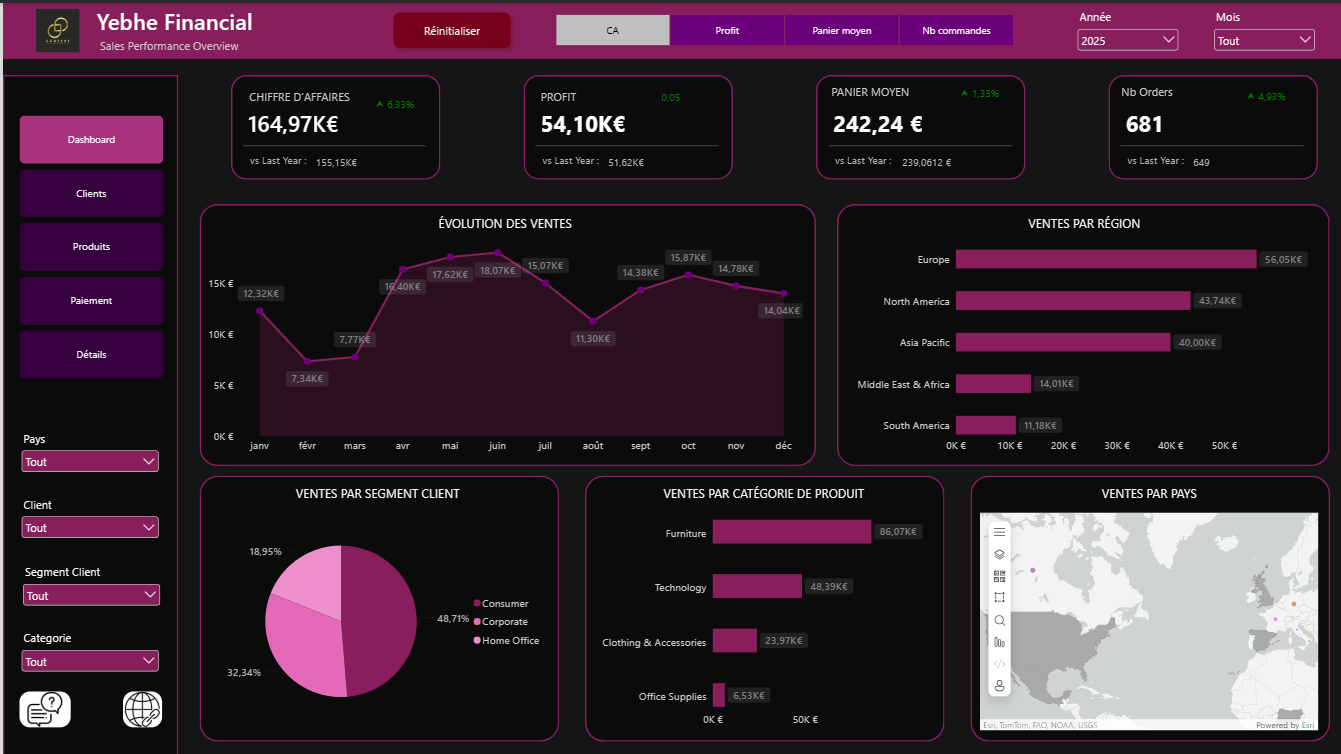

Layout of this report page (visuals, bound fields, positions):
{"tool":"powerbi","page":{"name":"Dashboard","canvas":[1920,1080],"ordinal":0},"visuals":[{"type":"shape","box":[281.1,288.7,883,375.5],"z":0},{"type":"shape","title":"top bar","box":[0,0,1919.7,80],"z":1000},{"type":"shape","box":[327.3,103,300,150],"z":2000,"group":"g1"},{"type":"shape","box":[746,103,300,150],"z":2000,"group":"g2"},{"type":"shape","box":[1583.3,103,300,150],"z":2000,"group":"g4"},{"type":"shape","box":[1164.7,103.1,300,150],"z":2000,"group":"g3"},{"type":"shape","title":"sidebar","box":[0,103.8,250.9,975.5],"z":2000},{"type":"slicer","title":"slicer month_name","fields":{"Values":["dim_date.Month_name"]},"box":[1728.8,7.6,154.5,62.1],"z":3000},{"type":"textbox","title":"title dash","box":[124,4,251.5,47],"z":4000},{"type":"image","title":"logo","box":[40.9,7.6,75.8,62.1],"z":5000},{"type":"slicer","title":"year Slicer","fields":{"Values":["dim_date.Year"]},"box":[1533.3,7.6,154.5,62.1],"z":6000},{"type":"actionButton","box":[550.9,3.8,186.4,69.7],"z":7000},{"type":"group","id":"g1","title":"Group 1","box":[327.3,103,300,150],"z":8000},{"type":"slicer","title":"year Slicer","fields":{"Values":["dim_segment.Customer_Segment"]},"box":[22.7,802.7,206.1,62.1],"z":9000},{"type":"group","id":"g2","title":"Group 1","box":[737.4,103,308.6,150],"z":10000},{"type":"cardVisual","fields":{"Data":["_Mesures.Ca Last Year"]},"box":[433,208.2,131.8,37.9],"z":10000,"group":"g1"},{"type":"cardVisual","fields":{"Data":["_Mesures.Profit LY"]},"box":[851.7,208.2,131.8,37.9],"z":10000,"group":"g2"},{"type":"cardVisual","fields":{"Data":["_Mesures.Nb Orders LY"]},"box":[1689,208.2,131.8,37.9],"z":10000,"group":"g4"},{"type":"cardVisual","fields":{"Data":["_Mesures.AOV LY"]},"box":[1270.3,208.3,131.8,37.9],"z":10000,"group":"g3"},{"type":"group","id":"g3","title":"Group 1","box":[1163.7,103,301,150.1],"z":11000},{"type":"cardVisual","fields":{"Data":["_Mesures.CA"]},"box":[336,141.6,191.9,58.4],"z":11000,"group":"g1"},{"type":"cardVisual","fields":{"Data":["_Mesures.Profit"]},"box":[754.7,141.6,191.9,58.4],"z":11000,"group":"g2"},{"type":"cardVisual","fields":{"Data":["_Mesures.AOV"]},"box":[1173.4,141.6,191.9,58.4],"z":11000,"group":"g3"},{"type":"cardVisual","fields":{"Data":["_Mesures.Nb Orders"]},"box":[1592,141.6,191.9,58.4],"z":11000,"group":"g4"},{"type":"group","id":"g4","title":"Group 1","box":[1572.2,103,311.1,150],"z":12000},{"type":"textbox","box":[343.6,200.7,122.7,43.9],"z":12000,"group":"g1"},{"type":"textbox","box":[762.3,200.7,122.7,43.9],"z":12000,"group":"g2"},{"type":"textbox","box":[1180.9,200.7,122.7,43.9],"z":12000,"group":"g3"},{"type":"textbox","box":[1599.6,200.7,122.7,43.9],"z":12000,"group":"g4"},{"type":"shape","box":[281.1,677.4,515.1,381.1],"z":13000},{"type":"shape","box":[1194.3,288.7,705.7,375.5],"z":14000},{"type":"shape","box":[833.1,677.4,515,381.1],"z":15000},{"type":"shape","box":[1384.9,677.4,515,381.1],"z":16000},{"type":"slicer","title":"Évolution DU CA","fields":{"Values":["Metrics.Metrics"]},"box":[771.7,15.1,694.3,47.2],"z":17000},{"type":"textbox","box":[1163.7,115.1,156.1,39.4],"z":17000,"group":"g3"},{"type":"textbox","box":[1572.2,115.1,131.8,31.8],"z":17000,"group":"g4"},{"type":"textbox","box":[337.7,121.8,175,39.6],"z":17000,"group":"g1"},{"type":"textbox","box":[737.4,122.5,117.4,32.6],"z":17000,"group":"g2"},{"type":"shape","box":[345.1,200.7,262.1,9.1],"z":18000,"group":"g1"},{"type":"shape","box":[763.8,200.7,262.1,9.1],"z":18000,"group":"g2"},{"type":"shape","box":[1182.5,200.7,262.1,9.1],"z":18000,"group":"g3"},{"type":"shape","box":[1601.1,200.7,262.1,9.1],"z":18000,"group":"g4"},{"type":"lineChart","fields":{"Category":["dim_date.Year Hiérarchie.Month_name"],"Y":["_Mesures.CA"]},"box":[280.4,289.3,882.1,375],"z":18000},{"type":"cardVisual","fields":{"Data":["_Mesures.AOV %"]},"box":[1370.2,103,87,50],"z":19000,"group":"g3"},{"type":"cardVisual","fields":{"Data":["_Mesures.Profit YOY %"]},"box":[944.6,106.9,80.4,52.2],"z":19000,"group":"g2"},{"type":"cardVisual","fields":{"Data":["_Mesures.Nb Orders %"]},"box":[1779.6,110.8,87.9,40.9],"z":19000,"group":"g4"},{"type":"cardVisual","fields":{"Data":["_Mesures.YOY %"]},"box":[518.9,122.5,87.9,40.9],"z":19000,"group":"g1"},{"type":"clusteredBarChart","fields":{"Category":["dim_country.Region"],"Y":["_Mesures.CA"]},"box":[1198.2,289.3,701.8,375],"z":19000},{"type":"pieChart","fields":{"Category":["dim_segment.Customer_Segment"],"Y":["_Mesures.CA"]},"box":[282.1,676.8,512.5,380.4],"z":20000},{"type":"clusteredBarChart","fields":{"Category":["dim_product.Product_Category"],"Y":["_Mesures.CA"]},"box":[833.9,676.8,514.3,380.4],"z":21000},{"type":"esriVisual","fields":{"Color":["dim_country.Country"],"Location":["dim_country.Country"],"Size":["_Mesures.CA"]},"box":[1385.7,676.8,514.3,380.4],"z":22000},{"type":"slicer","title":"year Slicer","fields":{"Values":["dim_product.Product_Category"]},"box":[22,898,206.1,62.1],"z":23000},{"type":"slicer","title":"year Slicer","fields":{"Values":["dim_customer.Customer_Name"]},"box":[22,707.3,206.1,62.1],"z":24000},{"type":"slicer","title":"year Slicer","fields":{"Values":["dim_country.Country"]},"box":[22,612,206.1,62.1],"z":25000},{"type":"pageNavigator","box":[22.7,160.6,206.1,378.8],"z":26000},{"type":"textbox","box":[130,50,214,30],"z":27000},{"type":"image","box":[23.6,986.2,73.1,51.6],"z":29001},{"type":"image","box":[171.9,986.2,55.9,51.6],"z":29002}]}

Visuals, with their boxes in screenshot pixels (x1, y1, x2, y2), scaled from the page's 1920x1080 canvas onto the 1341x754 screenshot:
shape: box=[196, 202, 813, 464]
"top bar" shape: box=[0, 0, 1340, 56]
shape: box=[229, 72, 438, 177]
shape: box=[521, 72, 731, 177]
shape: box=[1106, 72, 1315, 177]
shape: box=[813, 72, 1023, 177]
"sidebar" shape: box=[0, 72, 175, 753]
"slicer month_name" slicer: box=[1207, 5, 1315, 49]
"title dash" textbox: box=[87, 3, 262, 36]
"logo" image: box=[29, 5, 82, 49]
"year Slicer" slicer: box=[1071, 5, 1179, 49]
actionButton: box=[385, 3, 515, 51]
"Group 1" group: box=[229, 72, 438, 177]
"year Slicer" slicer: box=[16, 560, 160, 604]
"Group 1" group: box=[515, 72, 731, 177]
cardVisual - _Mesures.Ca Last Year: box=[302, 145, 394, 172]
cardVisual - _Mesures.Profit LY: box=[595, 145, 687, 172]
cardVisual - _Mesures.Nb Orders LY: box=[1180, 145, 1272, 172]
cardVisual - _Mesures.AOV LY: box=[887, 145, 979, 172]
"Group 1" group: box=[813, 72, 1023, 177]
cardVisual - _Mesures.CA: box=[235, 99, 369, 140]
cardVisual - _Mesures.Profit: box=[527, 99, 661, 140]
cardVisual - _Mesures.AOV: box=[820, 99, 954, 140]
cardVisual - _Mesures.Nb Orders: box=[1112, 99, 1246, 140]
"Group 1" group: box=[1098, 72, 1315, 177]
textbox: box=[240, 140, 326, 171]
textbox: box=[532, 140, 618, 171]
textbox: box=[825, 140, 910, 171]
textbox: box=[1117, 140, 1203, 171]
shape: box=[196, 473, 556, 739]
shape: box=[834, 202, 1327, 464]
shape: box=[582, 473, 942, 739]
shape: box=[967, 473, 1327, 739]
"Évolution DU CA" slicer: box=[539, 11, 1024, 43]
textbox: box=[813, 80, 922, 108]
textbox: box=[1098, 80, 1190, 103]
textbox: box=[236, 85, 358, 113]
textbox: box=[515, 86, 597, 108]
shape: box=[241, 140, 424, 146]
shape: box=[533, 140, 717, 146]
shape: box=[826, 140, 1009, 146]
shape: box=[1118, 140, 1301, 146]
lineChart - dim_date.Year Hiérarchie.Month_name x _Mesures.CA: box=[196, 202, 812, 464]
cardVisual - _Mesures.AOV %: box=[957, 72, 1018, 107]
cardVisual - _Mesures.Profit YOY %: box=[660, 75, 716, 111]
cardVisual - _Mesures.Nb Orders %: box=[1243, 77, 1304, 106]
cardVisual - _Mesures.YOY %: box=[362, 86, 424, 114]
clusteredBarChart - dim_country.Region x _Mesures.CA: box=[837, 202, 1327, 464]
pieChart - dim_segment.Customer_Segment x _Mesures.CA: box=[197, 473, 555, 738]
clusteredBarChart - dim_product.Product_Category x _Mesures.CA: box=[582, 473, 942, 738]
esriVisual - dim_country.Country x dim_country.Country: box=[968, 473, 1327, 738]
"year Slicer" slicer: box=[15, 627, 159, 670]
"year Slicer" slicer: box=[15, 494, 159, 537]
"year Slicer" slicer: box=[15, 427, 159, 471]
pageNavigator: box=[16, 112, 160, 377]
textbox: box=[91, 35, 240, 56]
image: box=[16, 689, 68, 725]
image: box=[120, 689, 159, 725]
